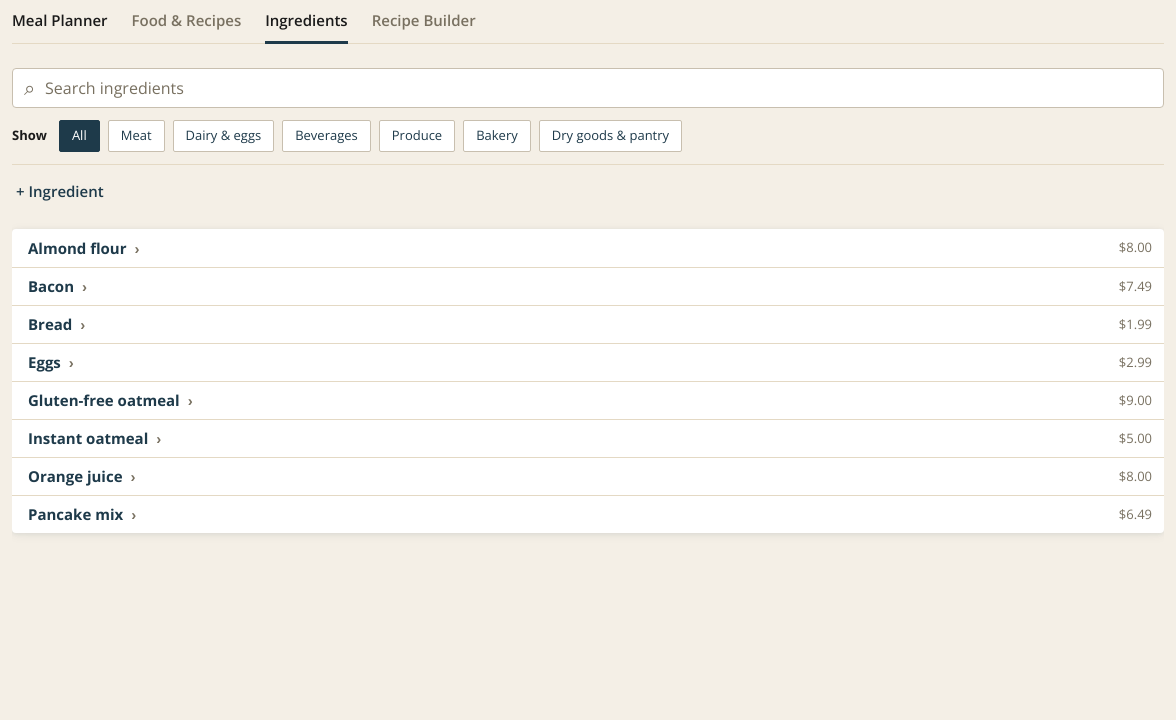
it: MenuMonsterShelfTool hub, tabs › IngredientsTab_OpensAnIngredientsPackages
Click the button "Bacon ›": (58,287) [28,275,87,298]
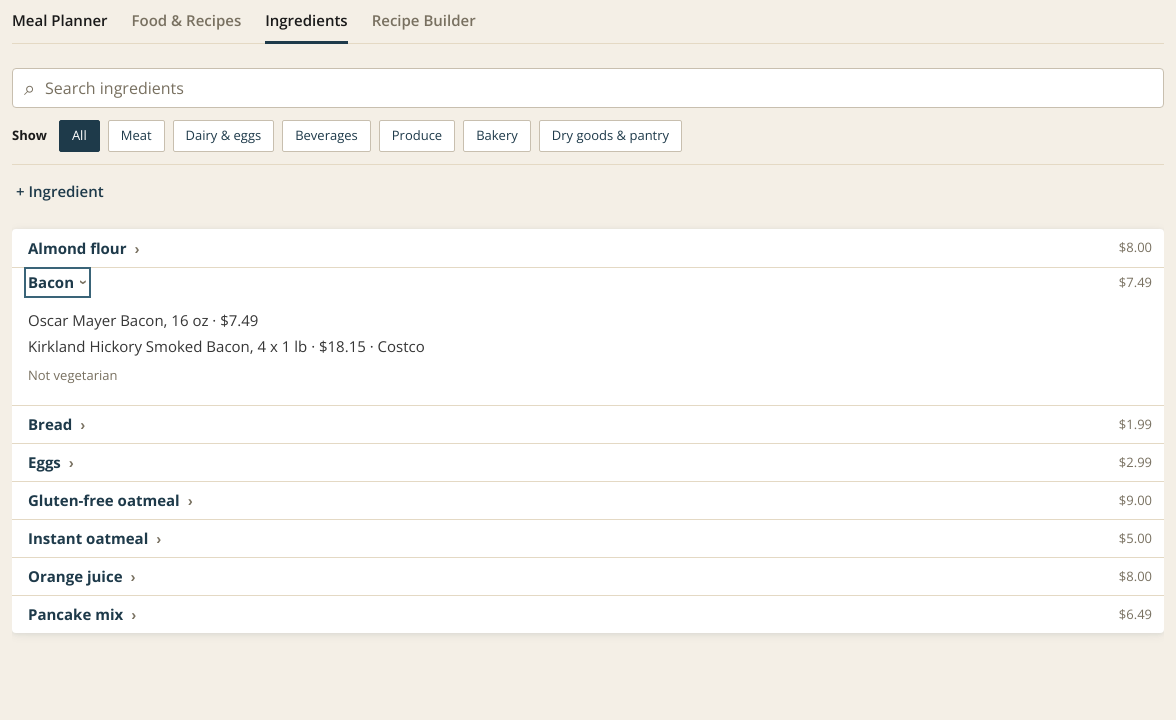
Check: the list named "Bacon packages" shows "Costco", box [28,336,425,356]
